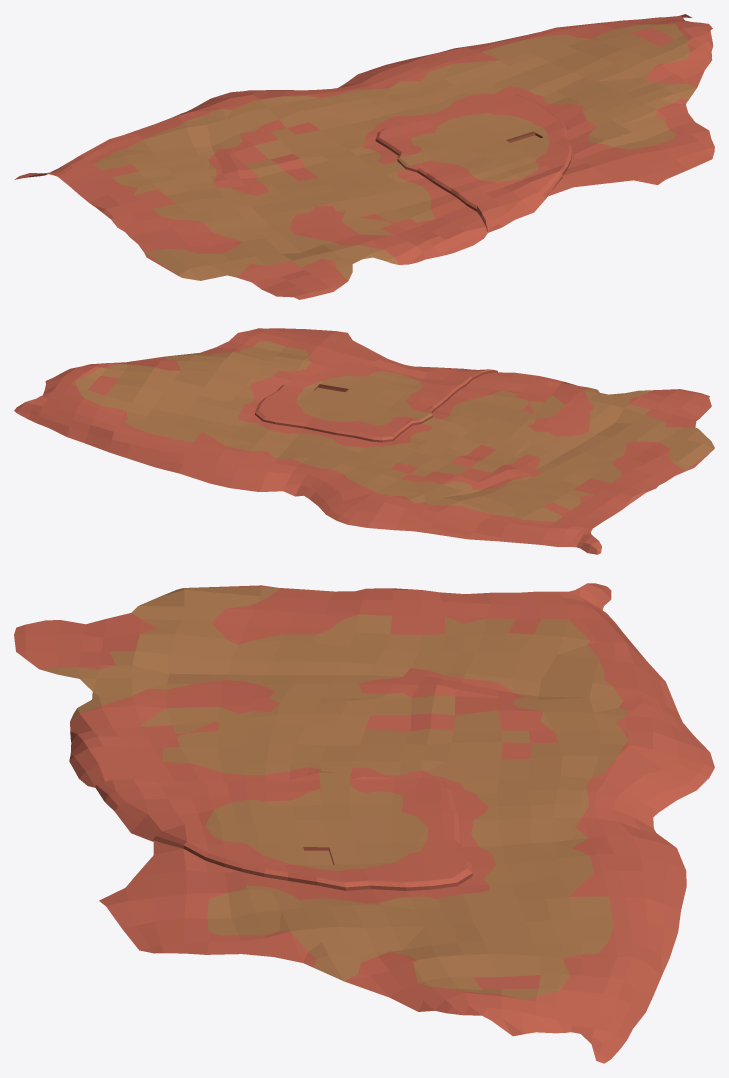
Rendered from Mali_Ground.fbx.
The picture shows the model from 3 angles, top to bottom: view 1: azimuth 30°, elevation 25°; view 2: azimuth 150°, elevation 25°; view 3: azimuth 270°, elevation 25°; orthographic projection. The views are drawn at different scales.
Parts seen in each view (by area): view 1: Mali_Ground; view 2: Mali_Ground; view 3: Mali_Ground.
Part boxes in pixels (x1,y1,x2,y2): Mali_Ground: (14,14,714,299); Mali_Ground: (14,328,714,554); Mali_Ground: (14,583,714,1063).
Bounding box in the file's own units: 8471 × 355 × 5290.
